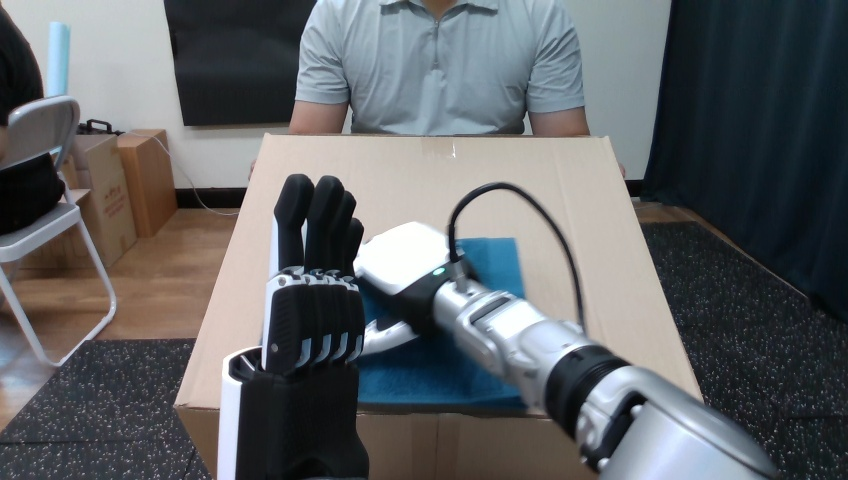left robot hand: (218, 174, 777, 478), (455, 189, 579, 326)
